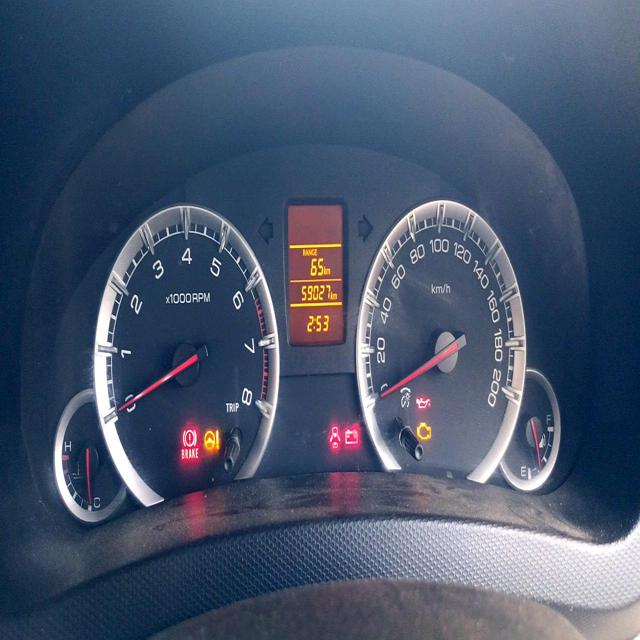odometer: (299, 280, 333, 306)
